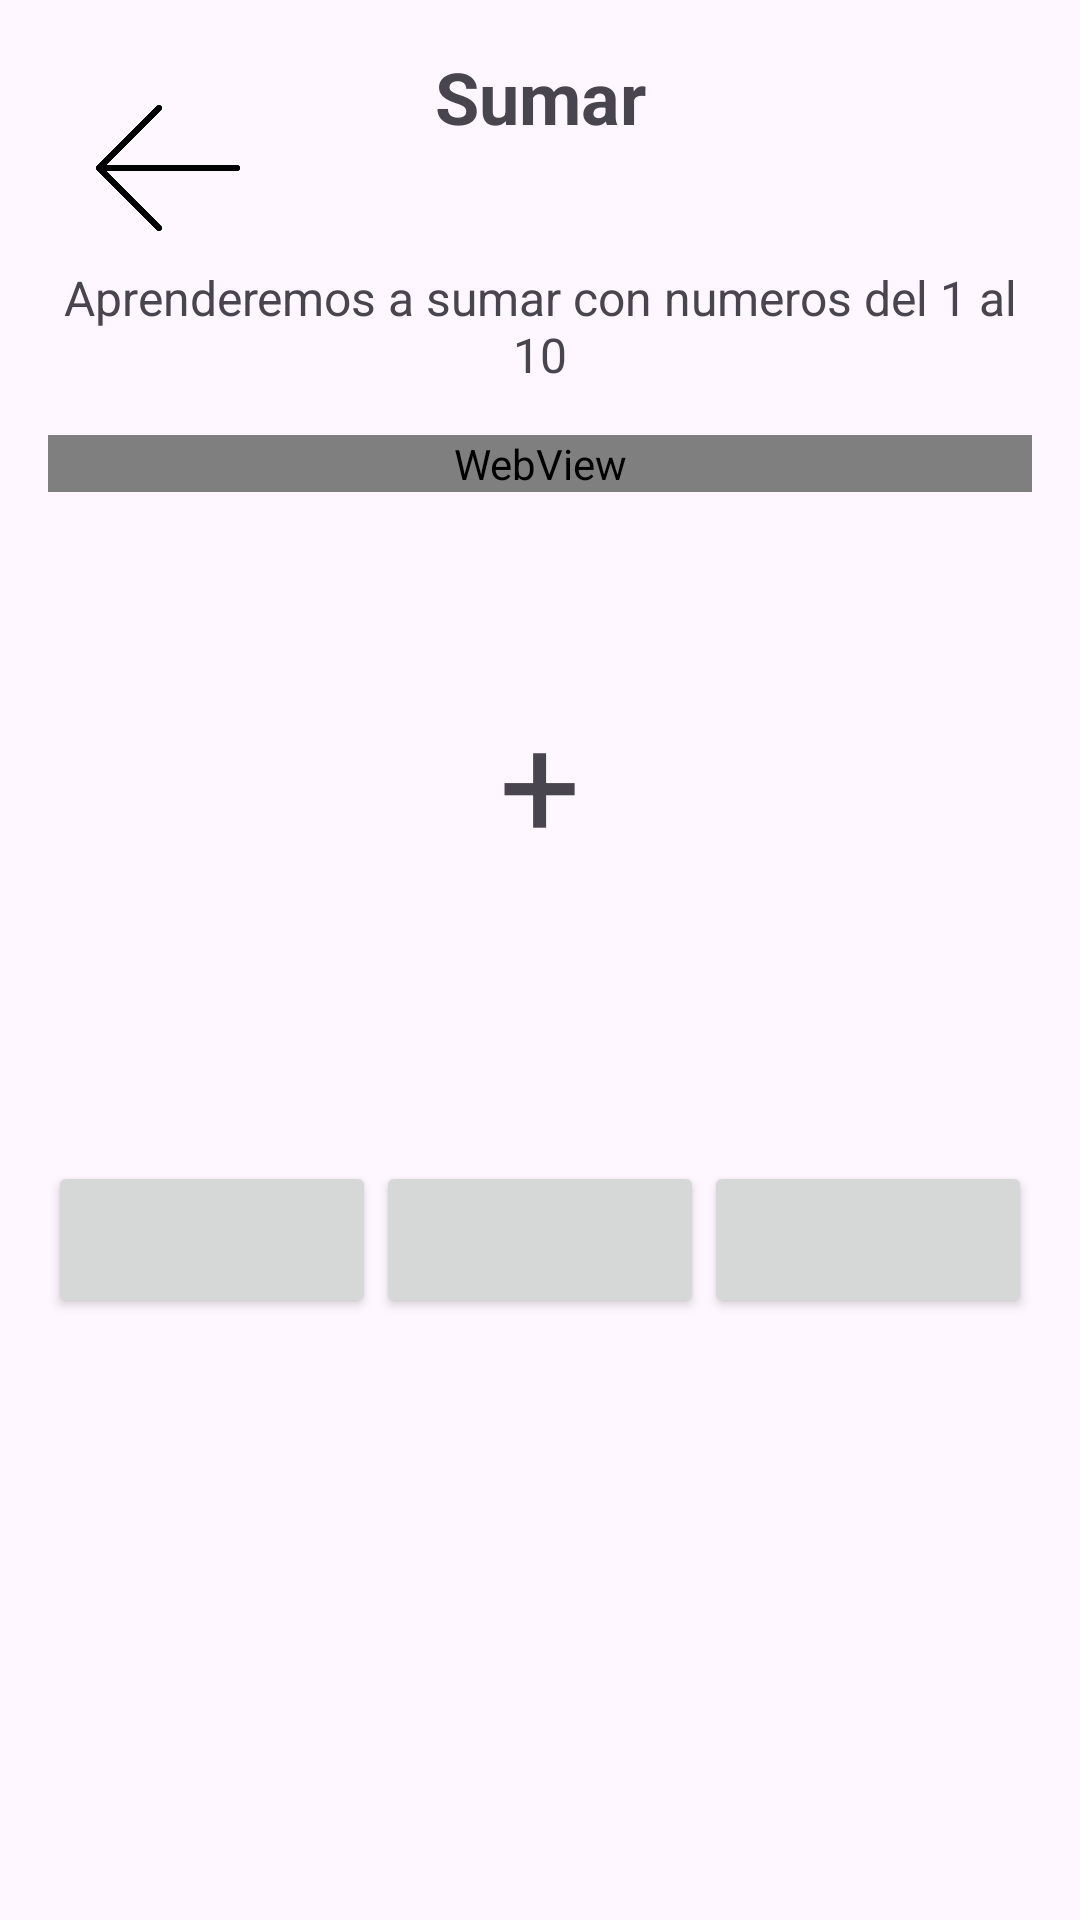

Where to tap for icons on this 1080px x 1920px app screen, as (x,y):
Botón de volver: (168,168)
